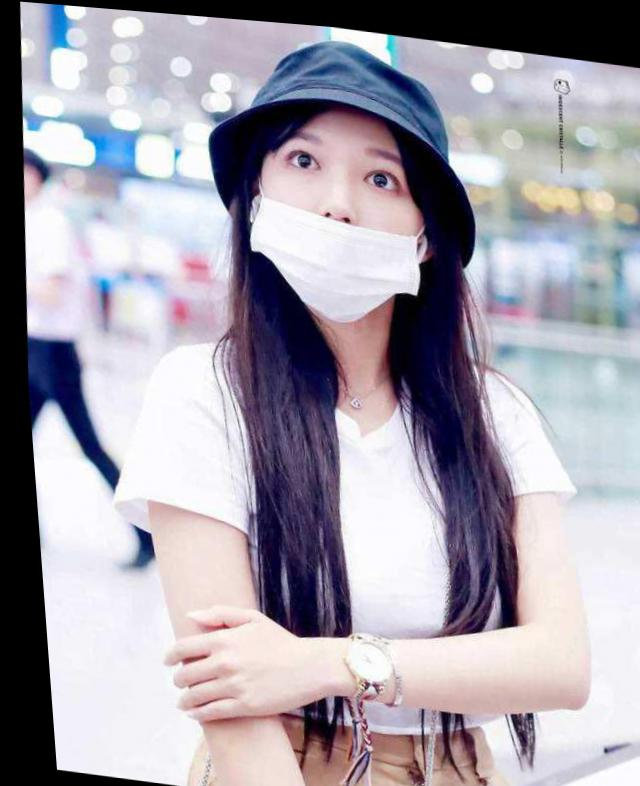WRONG: (244, 104, 430, 322)
